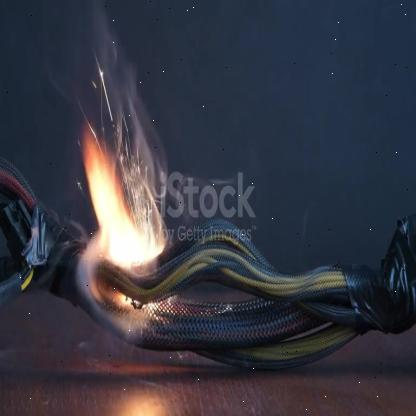fire: (80, 142, 160, 276)
smoke: (43, 11, 170, 240)
